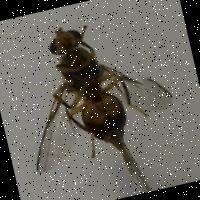Oriental-fruit-fly: (0, 0, 188, 190)
